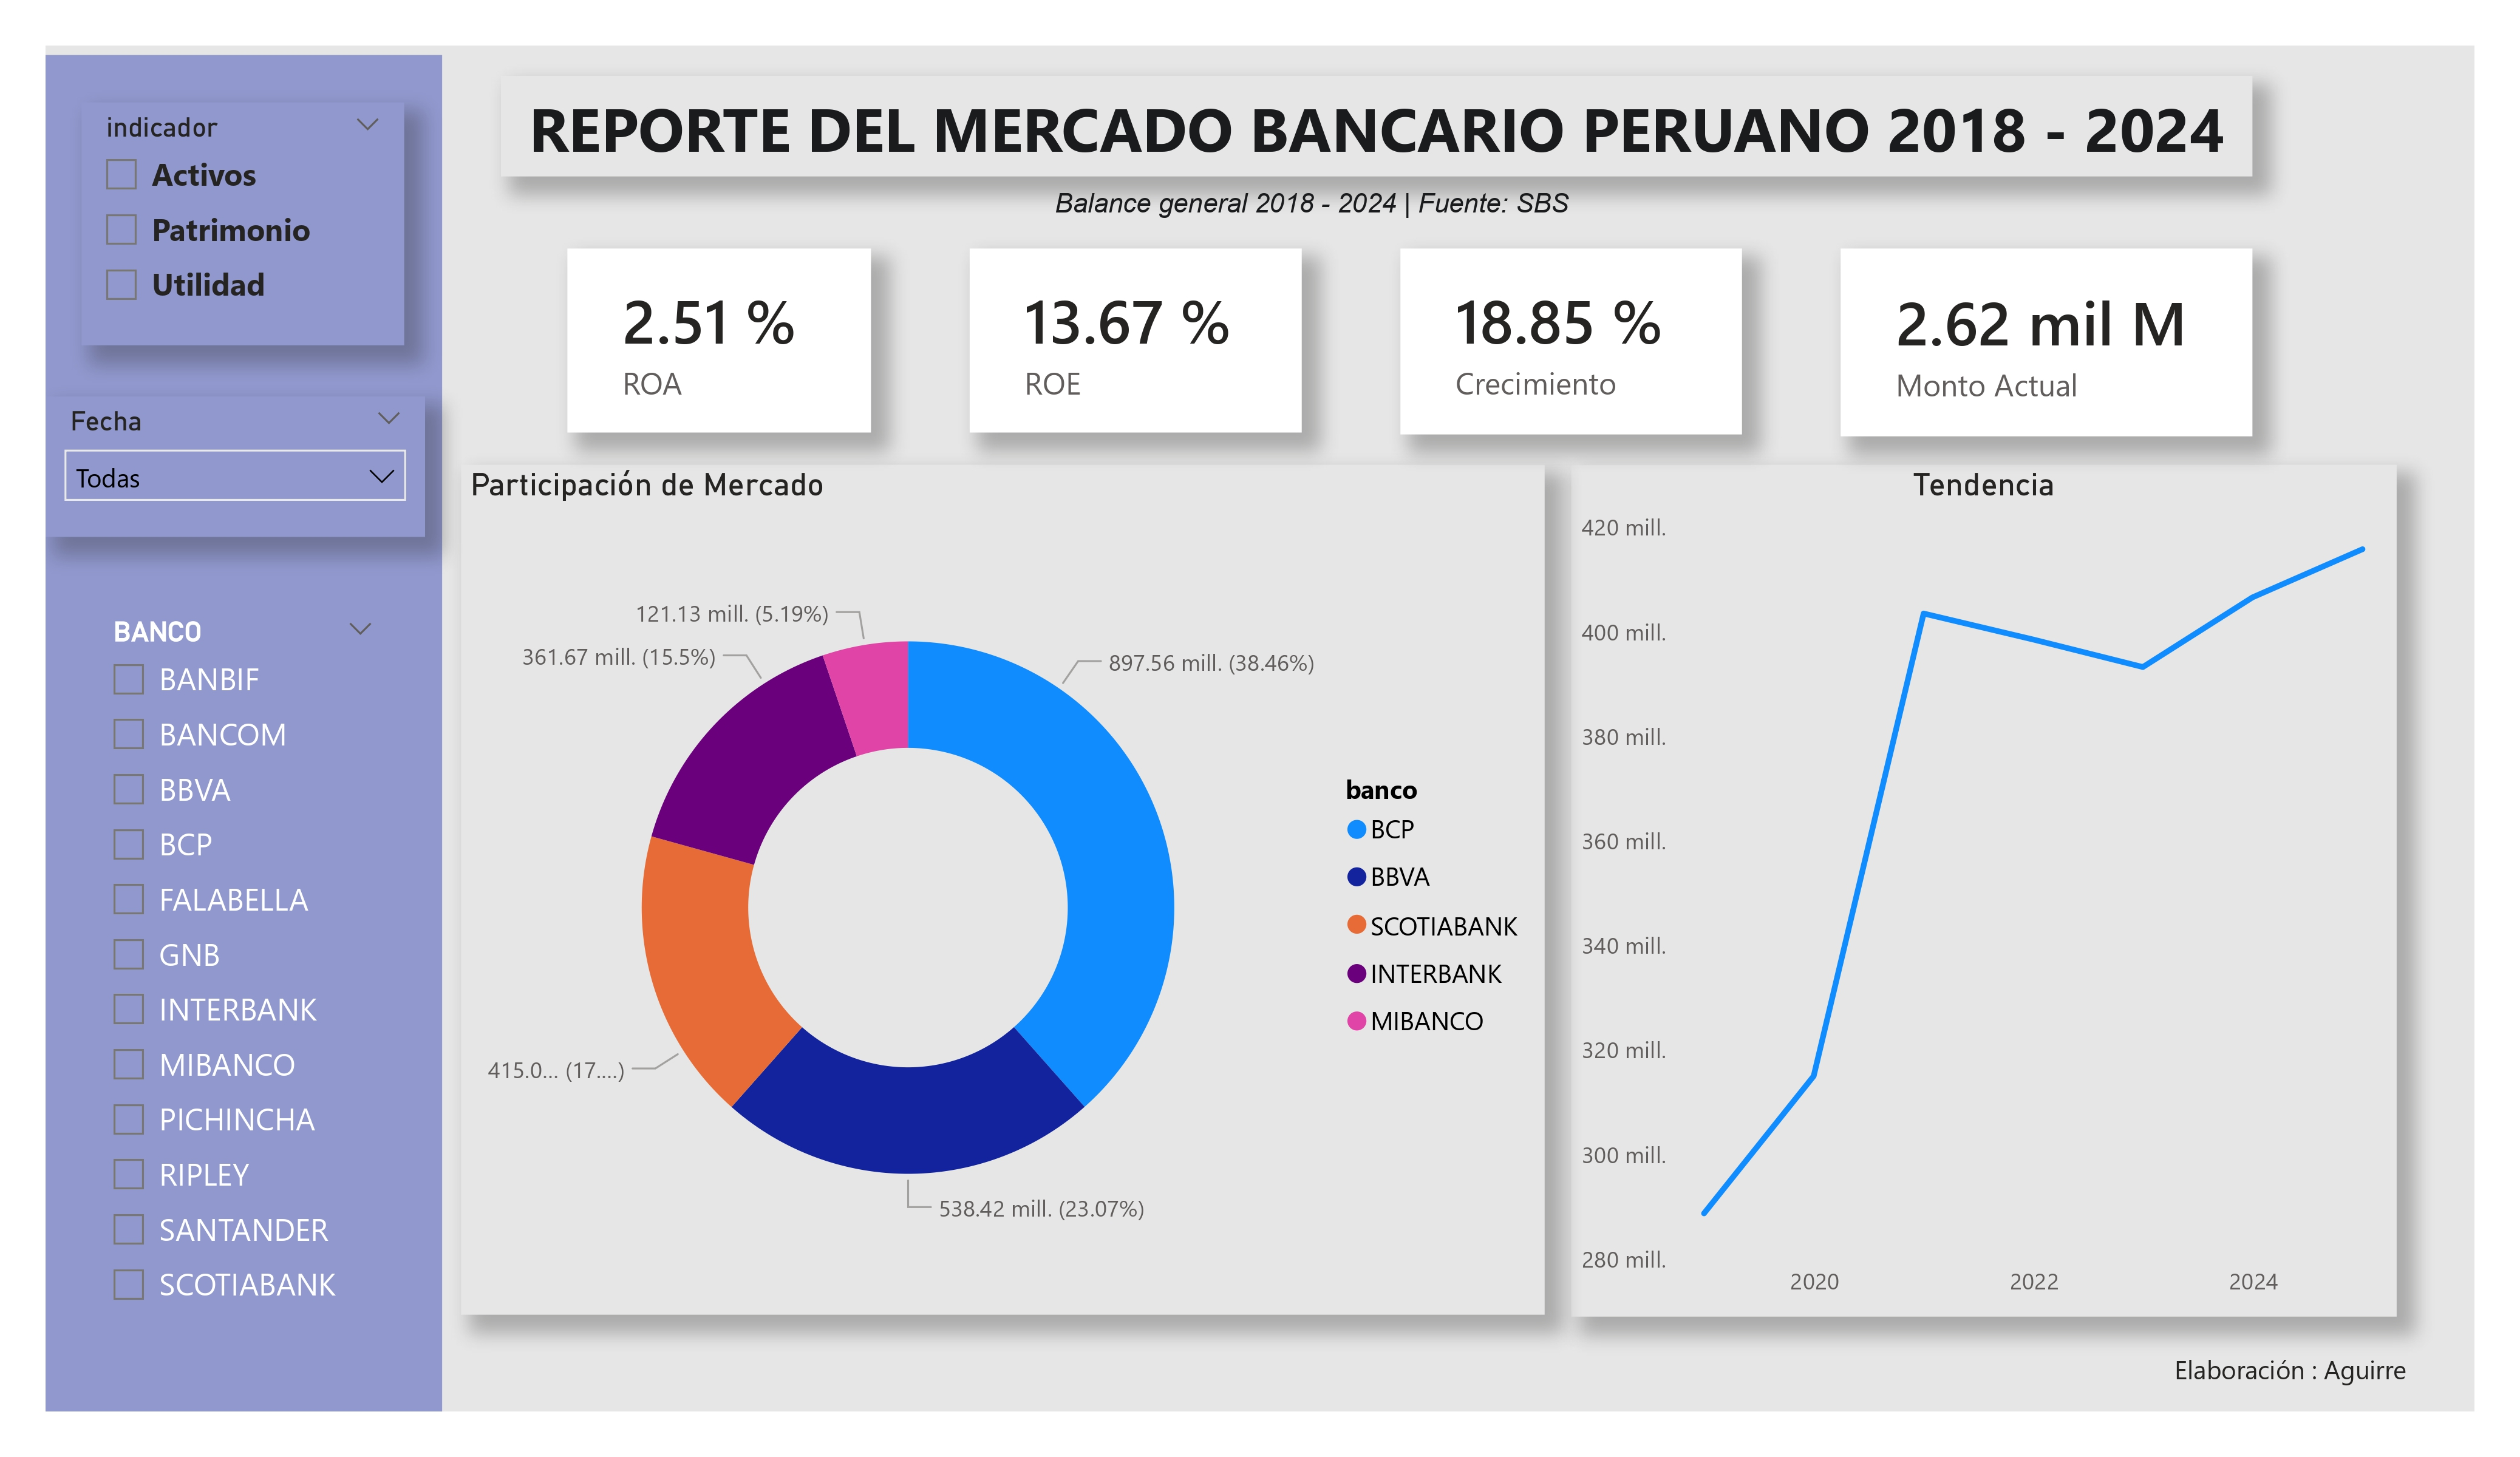

The page's visual inventory and layout, read from the dashboard file:
{"tool":"powerbi","page":{"name":"Página 1","canvas":[1280,720],"ordinal":0},"visuals":[{"type":"shape","box":[0,5.5,208.6,714.9],"z":0},{"type":"slicer","fields":{"Values":["banca_consolidado_2018_2024.fecha"]},"box":[0,185.2,200.3,74.1],"z":1000},{"type":"slicer","fields":{"Values":["banca_consolidado_2018_2024.banco"]},"box":[22.9,296.2,162.1,401.2],"z":2000},{"type":"cardVisual","fields":{"Data":["banca_consolidado_2018_2024.Monto Actual"]},"box":[945.7,107,217.2,98.7],"z":3000},{"type":"cardVisual","fields":{"Data":["banca_consolidado_2018_2024.Crecimiento %"]},"box":[714,107,179.8,97.7],"z":4000},{"type":"donutChart","title":"Participación de Mercado","fields":{"Category":["banca_consolidado_2018_2024.banco"],"Y":["banca_consolidado_2018_2024.Monto Actual"]},"box":[219.3,221.4,570.6,447.9],"z":5000},{"type":"lineChart","title":"Tendencia","fields":{"Category":["banca_consolidado_2018_2024.fecha"],"Y":["banca_consolidado_2018_2024.Monto Actual"]},"box":[804.4,221.4,434.4,449],"z":6000},{"type":"textbox","box":[240.1,15.6,922.9,53],"z":7000},{"type":"slicer","fields":{"Values":["banca_consolidado_2018_2024.indicador"]},"box":[19.2,30.2,170.2,127.6],"z":8000},{"type":"cardVisual","fields":{"Data":["banca_consolidado_2018_2024.ROA %"]},"box":[275.4,107,160,96.7],"z":9000},{"type":"cardVisual","fields":{"Data":["banca_consolidado_2018_2024.ROE %"]},"box":[487.4,107,174.6,96.7],"z":10000},{"type":"textbox","box":[526.9,68.6,315.9,59.2],"z":11000},{"type":"textbox","box":[1117.2,683.8,150.7,28.1],"z":11002}]}

Visuals, with their boxes in screenshot pixels (x1, y1, x2, y2):
shape: [left=46, top=56, right=441, bottom=1411]
slicer - banca_consolidado_2018_2024.fecha: [left=46, top=397, right=426, bottom=537]
slicer - banca_consolidado_2018_2024.banco: [left=89, top=608, right=397, bottom=1368]
cardVisual - banca_consolidado_2018_2024.Monto Actual: [left=1840, top=248, right=2252, bottom=436]
cardVisual - banca_consolidado_2018_2024.Crecimiento %: [left=1400, top=248, right=1742, bottom=434]
"Participación de Mercado" donutChart: [left=461, top=466, right=1544, bottom=1316]
"Tendencia" lineChart: [left=1572, top=466, right=2396, bottom=1317]
textbox: [left=501, top=75, right=2252, bottom=175]
slicer - banca_consolidado_2018_2024.indicador: [left=82, top=103, right=405, bottom=345]
cardVisual - banca_consolidado_2018_2024.ROA %: [left=568, top=248, right=872, bottom=432]
cardVisual - banca_consolidado_2018_2024.ROE %: [left=970, top=248, right=1302, bottom=432]
textbox: [left=1046, top=175, right=1645, bottom=288]
textbox: [left=2165, top=1343, right=2451, bottom=1396]
